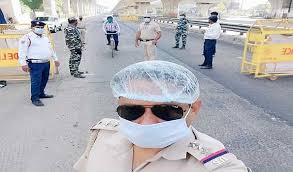mask: (115, 82, 200, 149), (29, 24, 42, 35), (142, 13, 150, 23), (105, 14, 112, 24), (177, 11, 183, 17), (79, 14, 83, 18)
